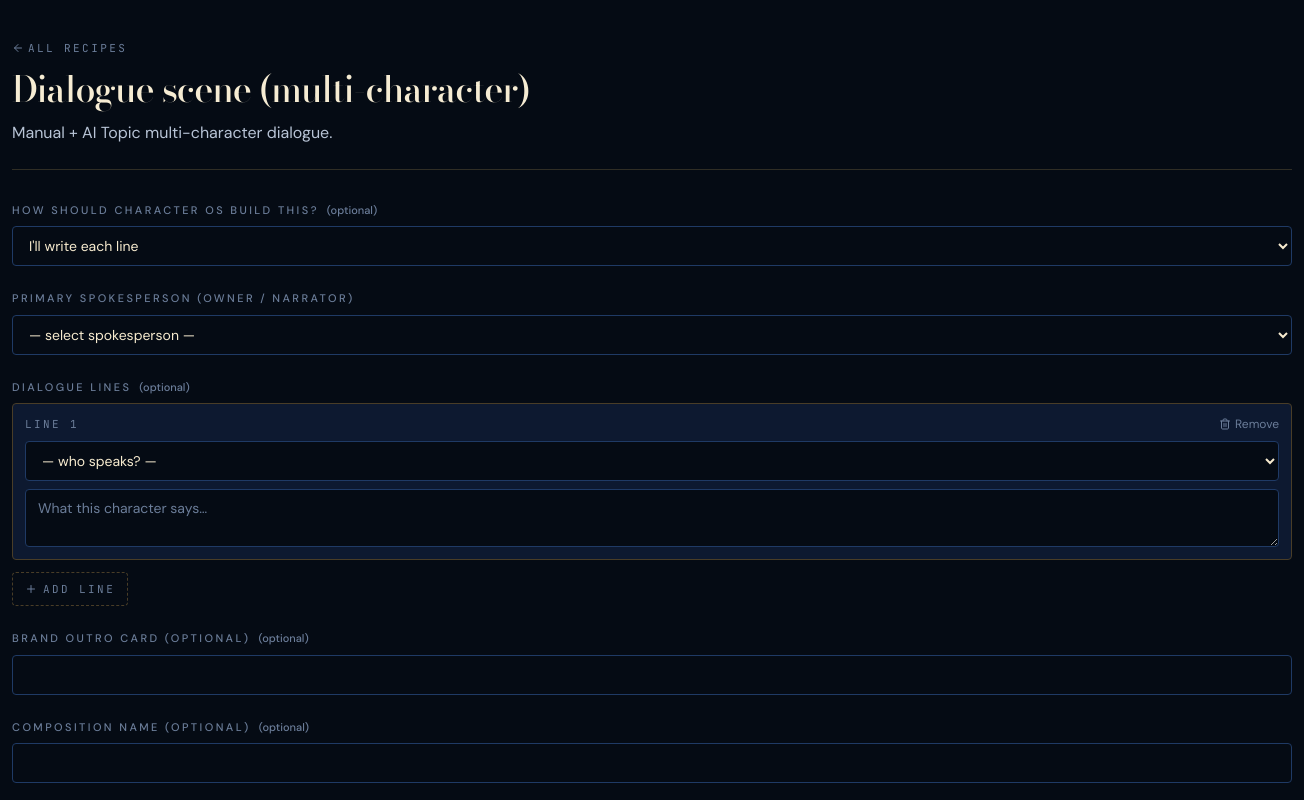
Test case: dialogue_scene SPA (AI-D4) › restores DialogueLinesEditor when switching AI → Manual
Select "Character OS writes it from a topic" in the dropdown labelled "How should Character OS build this?(optional)" at (652, 246), box [12,226,1292,266]
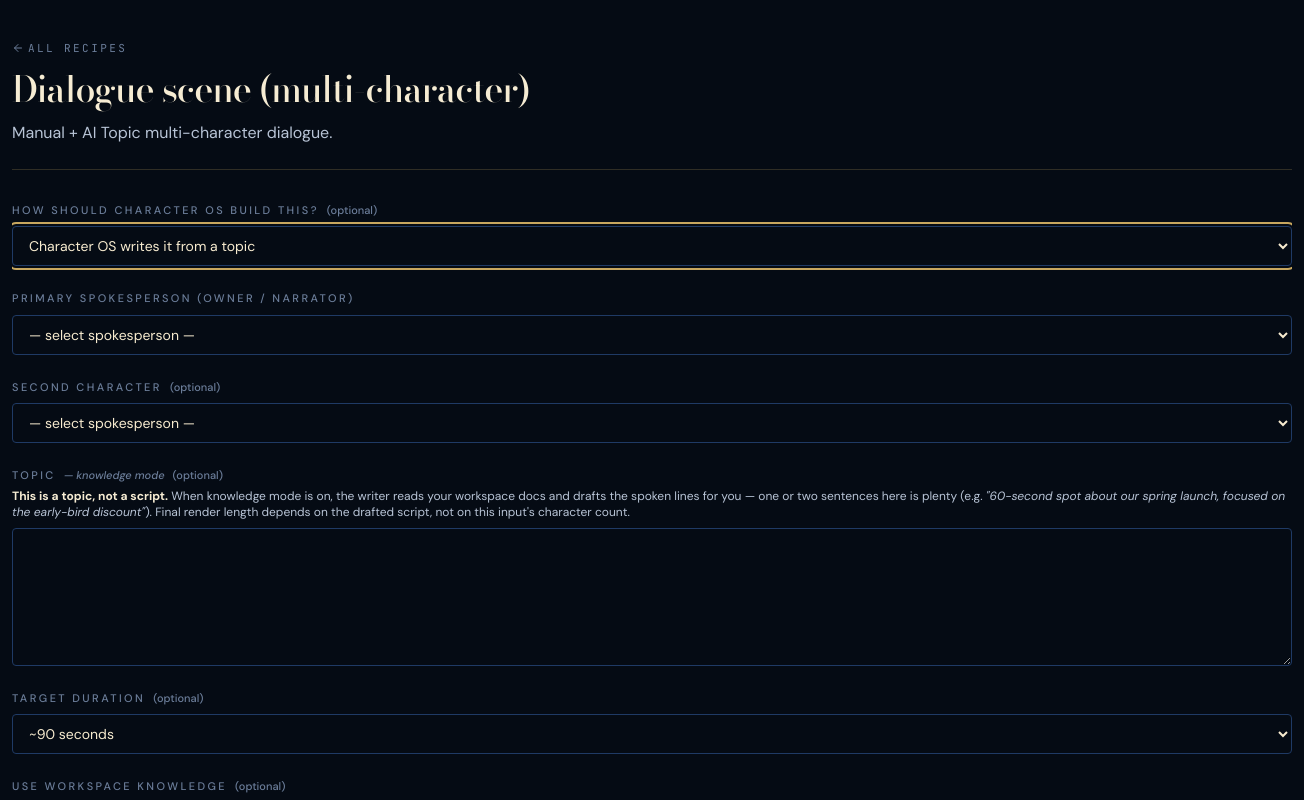
Expected: the element with test id "dialogue-lines-editor" is gone
Select "I'll write each line" in the dropdown labelled "How should Character OS build this?(optional)" at (652, 246), box [12,226,1292,266]
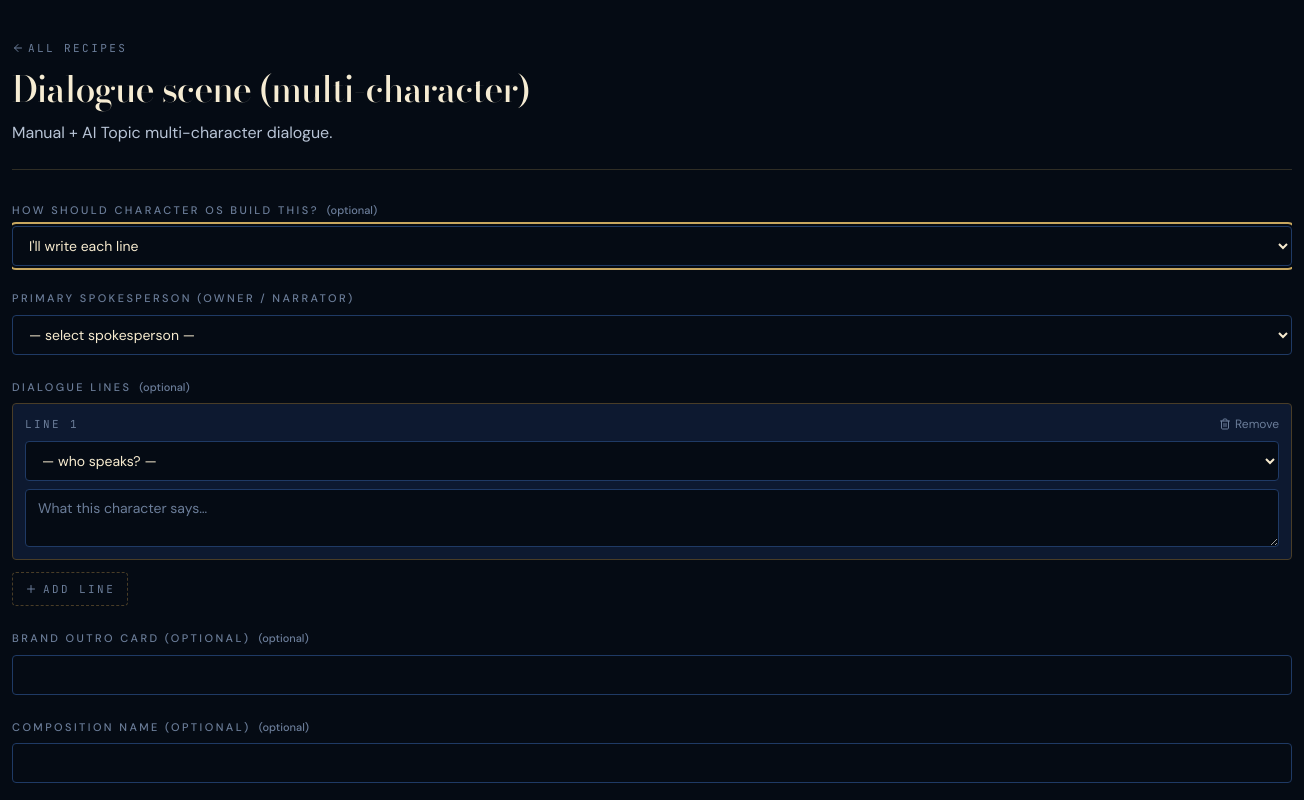
Expected: the element with test id "dialogue-lines-editor" is shown, [12,403,1292,606]
